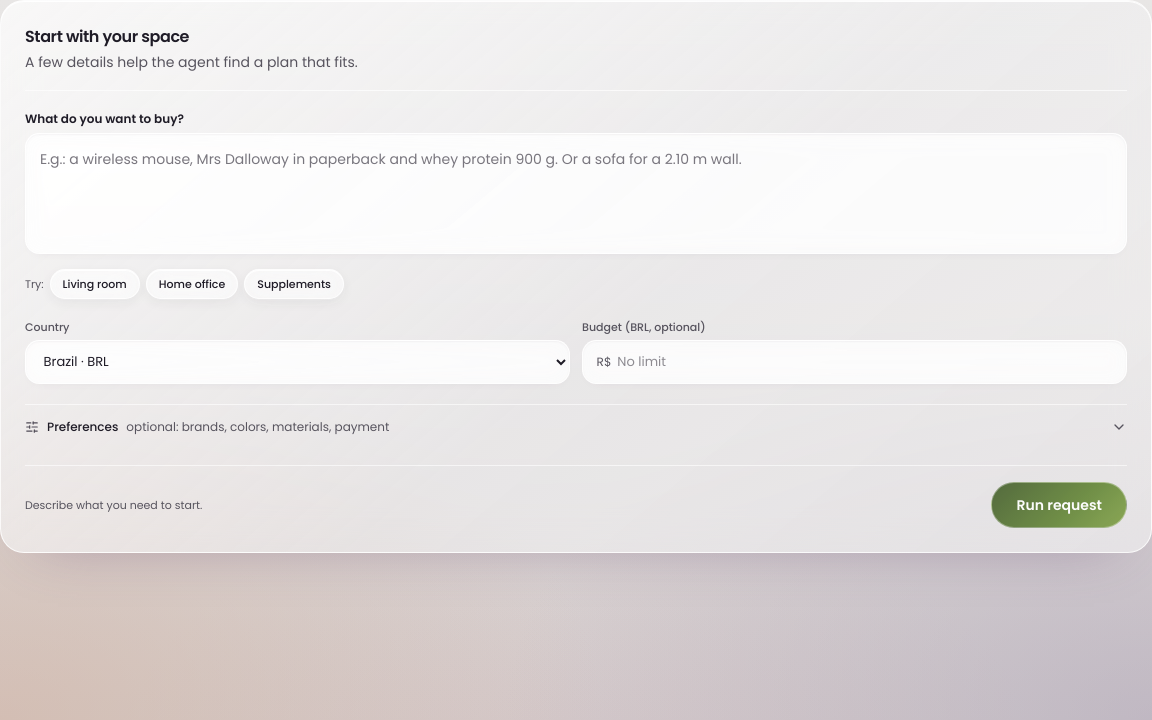
Scenario: RequestComposer › refuses a budget that is not a positive number
The image size is (1152, 720).
Replace the text in the text box labelled "What do you want to buy?" with "A sofa for a small living room" at (576, 193), box [25,133,1127,254]
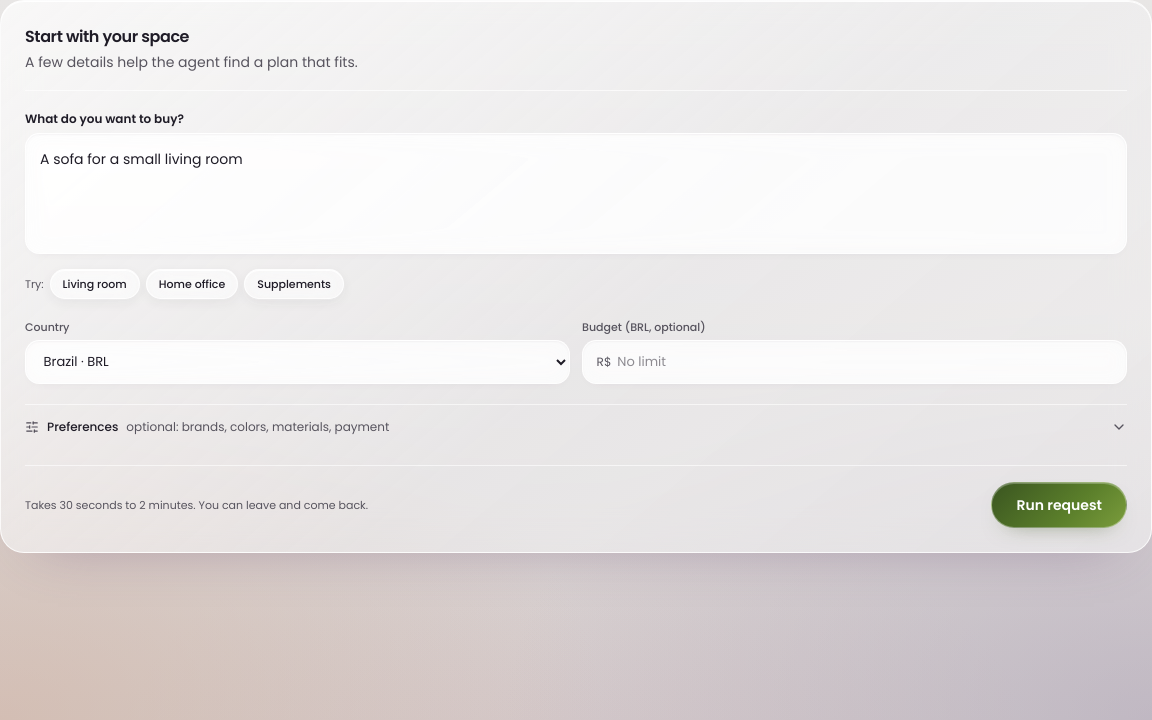
Type "abc" into the field labelled "Budget (BRL, optional)" at (865, 362), box [617,352,1112,372]
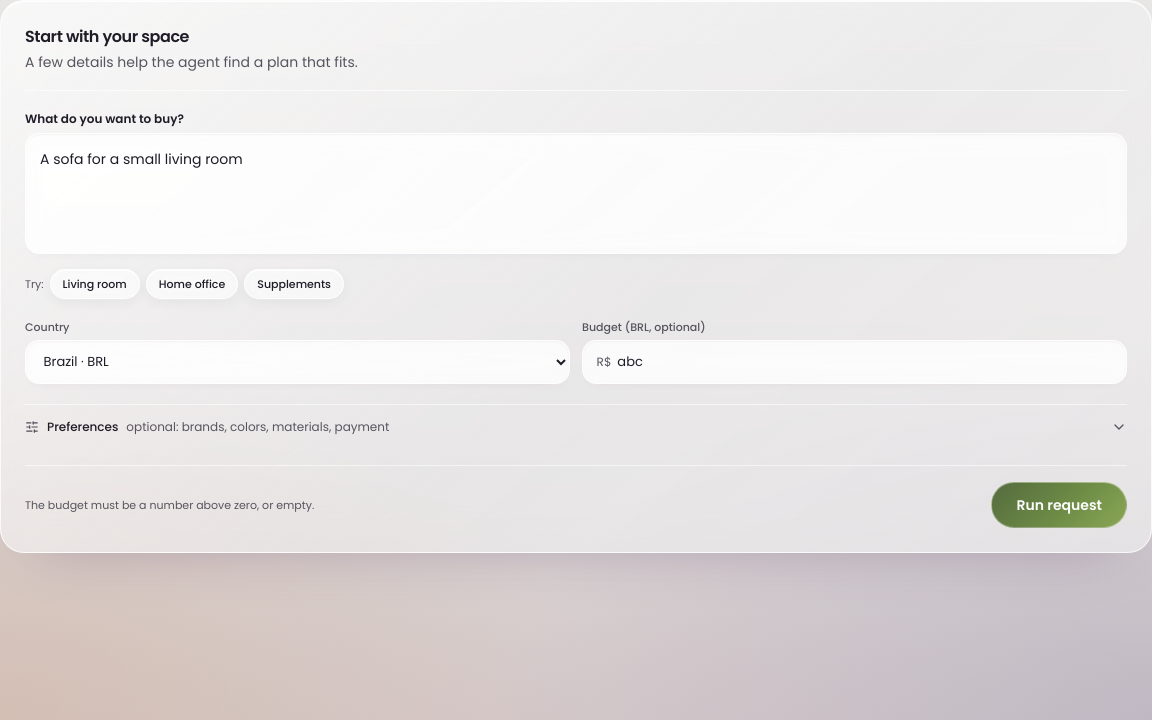
Result: the button "Run request" is disabled at [991,482,1127,528]
Result: the text "The budget must be a number above zero, or empty." is shown at [25,496,314,513]
